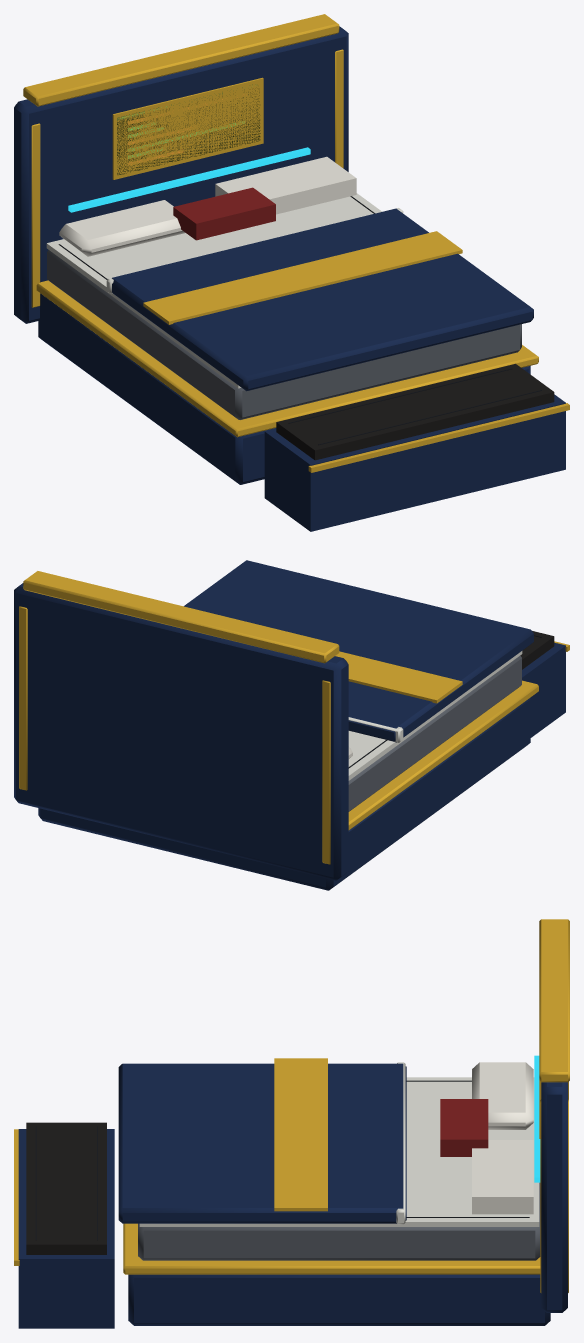
File: bed_captain_bed.glb
The picture shows the model from 3 angles, top to bottom: view 1: azimuth 30°, elevation 25°; view 2: azimuth 150°, elevation 25°; view 3: azimuth 270°, elevation 25°; orthographic projection. The views are drawn at different scales.
Visible parts, largest first — view 1: bed_captain_bed; view 2: bed_captain_bed; view 3: bed_captain_bed.
Part boxes in pixels (x1,y1,x2,y2): bed_captain_bed: (14,14,569,531); bed_captain_bed: (14,560,569,890); bed_captain_bed: (14,919,569,1328).
Bounding box in the file's own units: 2.05 × 1.54 × 2.89.
10 materials, 1 textured.
